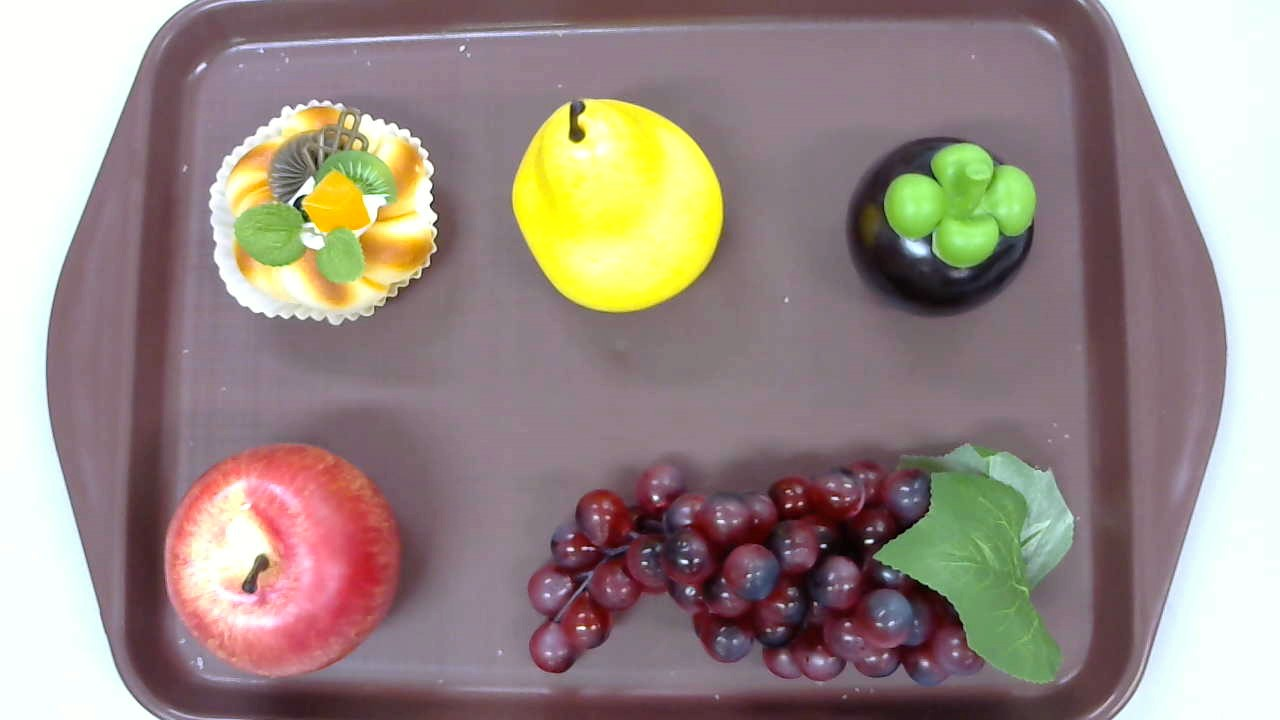fruit tower: (208, 100, 437, 327)
grape: (528, 443, 1075, 688)
mangosteen: (846, 138, 1038, 319)
red apple: (164, 442, 400, 677)
yellow pear: (511, 99, 724, 315)
